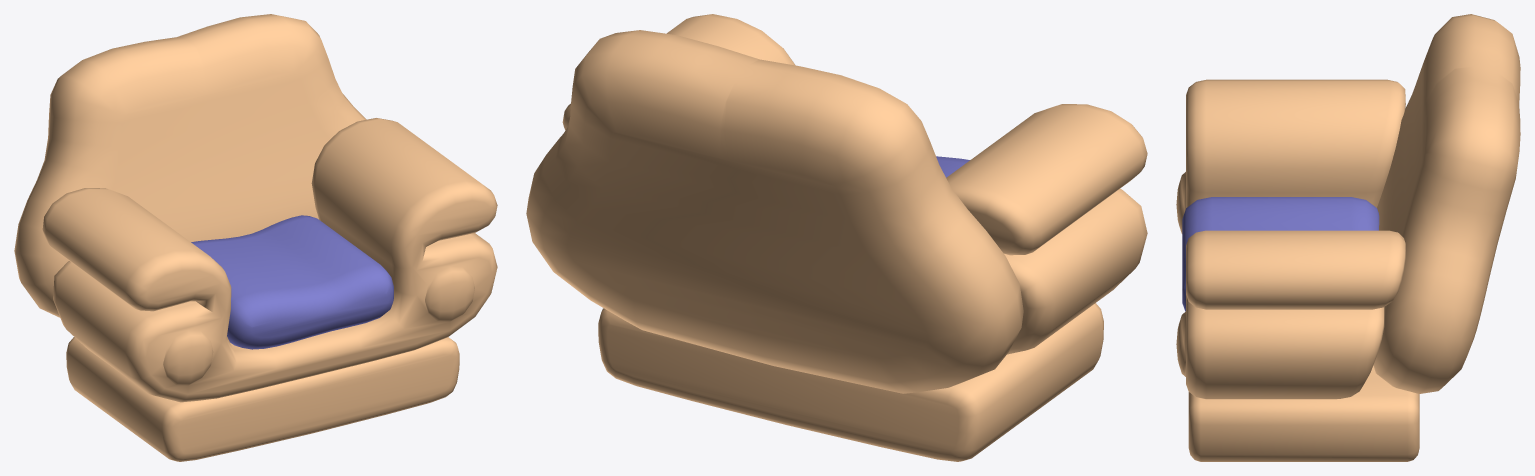
The model's file is armChair.fbx.
3 renders of one model, left to right at view 1: azimuth 30°, elevation 25°; view 2: azimuth 150°, elevation 25°; view 3: azimuth 270°, elevation 25°, orthographic. The views are drawn at different scales.
Parts seen in each view (by area): view 1: chair.dxf_001; view 2: chair.dxf_001; view 3: chair.dxf_001.
Part boxes in pixels (bbox=[...]): chair.dxf_001: bbox=[14, 14, 497, 461]; chair.dxf_001: bbox=[526, 14, 1147, 461]; chair.dxf_001: bbox=[1176, 14, 1520, 461].
Bounding box in the file's own units: 48.03 × 37.9 × 35.43.
